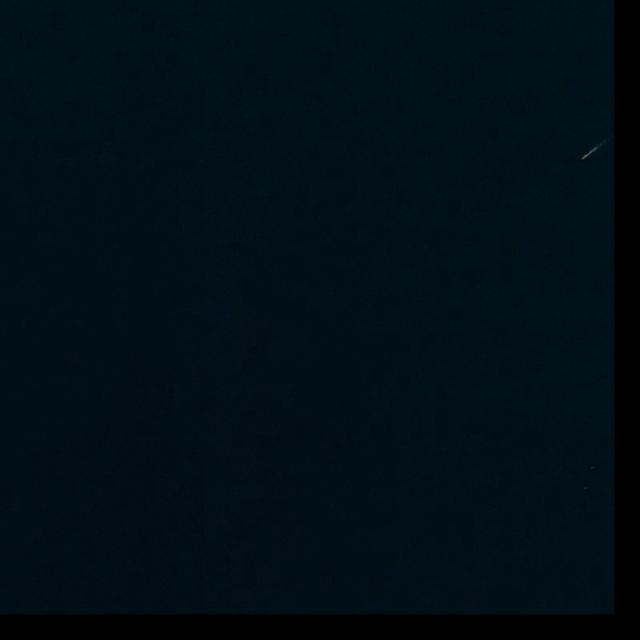ship: (580, 150, 592, 162)
